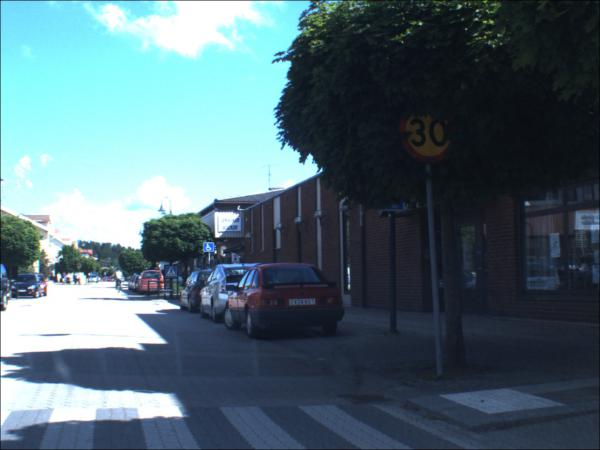30_SIGN: (398, 105, 457, 161)
PEDESTRIAN_CROSSING: (166, 266, 180, 280)
